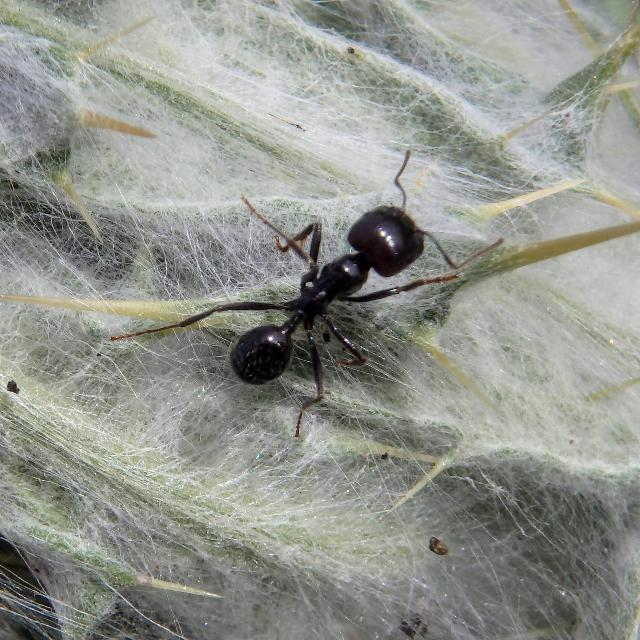Messor: (167, 136, 451, 427)
